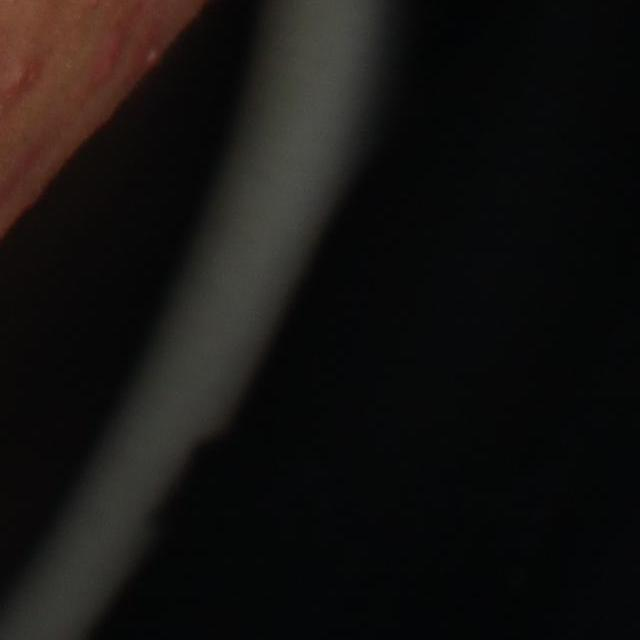papule: (96, 22, 126, 82), (9, 50, 41, 93)
pustule: (140, 37, 163, 71)
